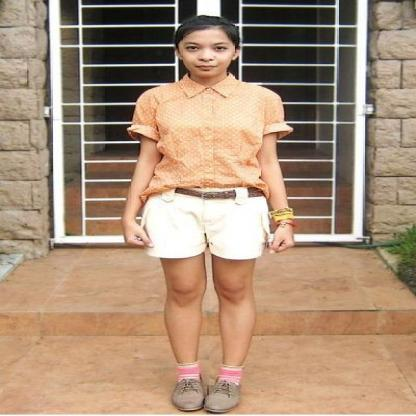shirt: (112, 75, 305, 207)
shoe: (170, 374, 248, 416)
shorts: (144, 191, 274, 259)
